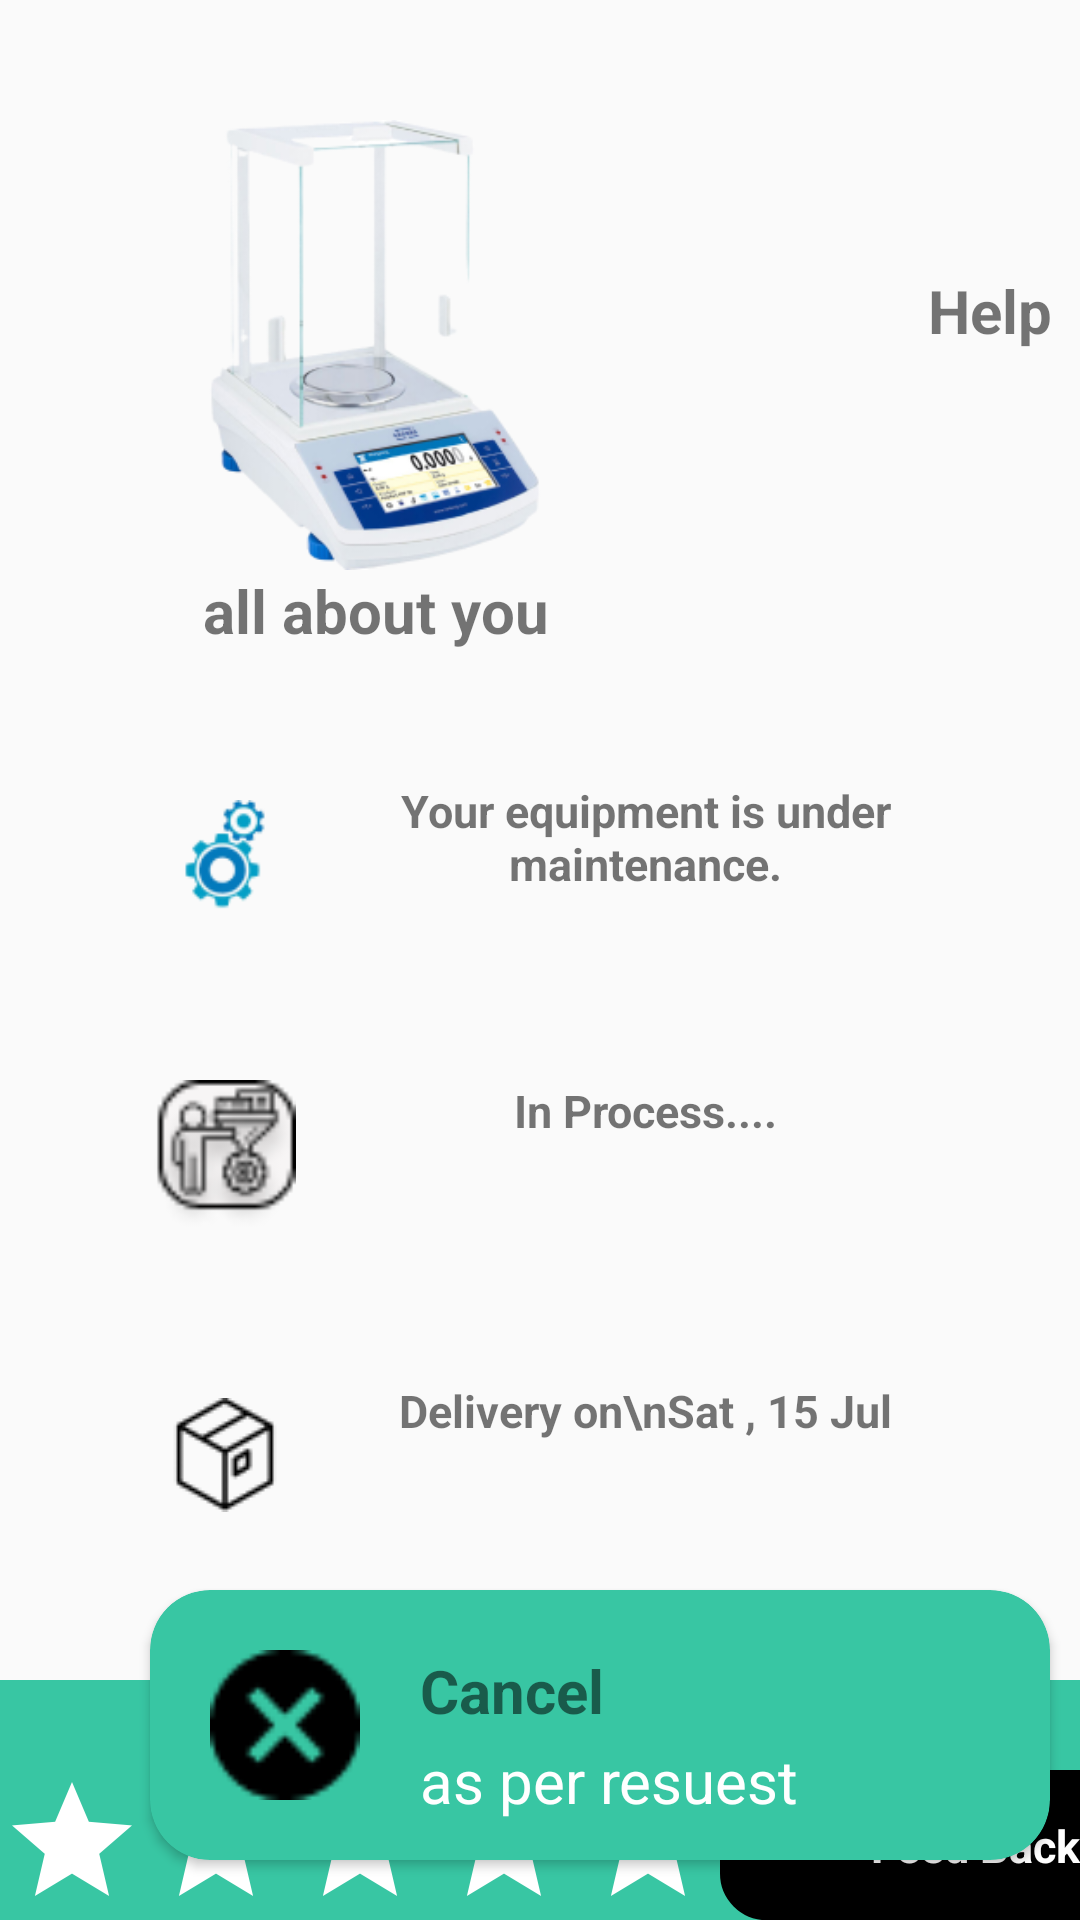

Named icons in this screenshot (1080 x 1920) and their bounding boxes, region(x1, y1, x2, y2):
settings: region(185, 800, 265, 908)
